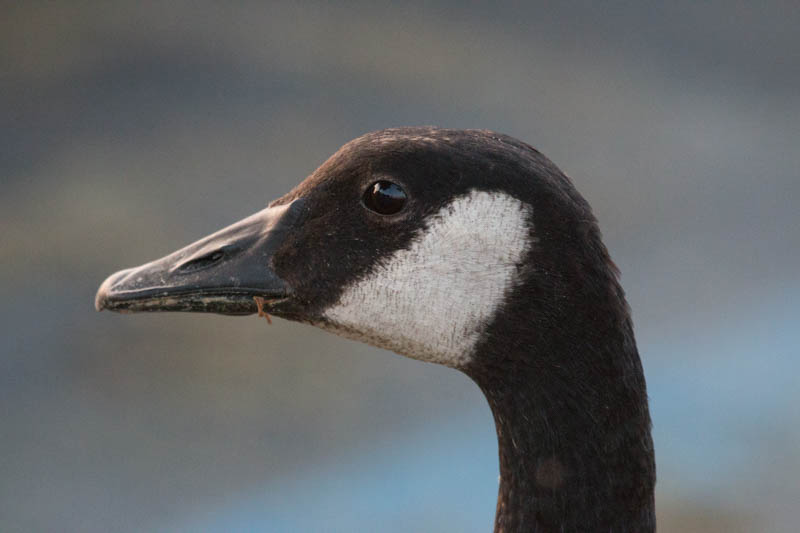goose-head: (94, 125, 632, 375)
